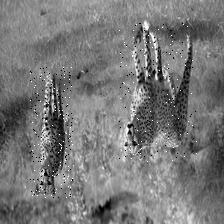Cheetha: (119, 23, 197, 162), (30, 67, 74, 198)
